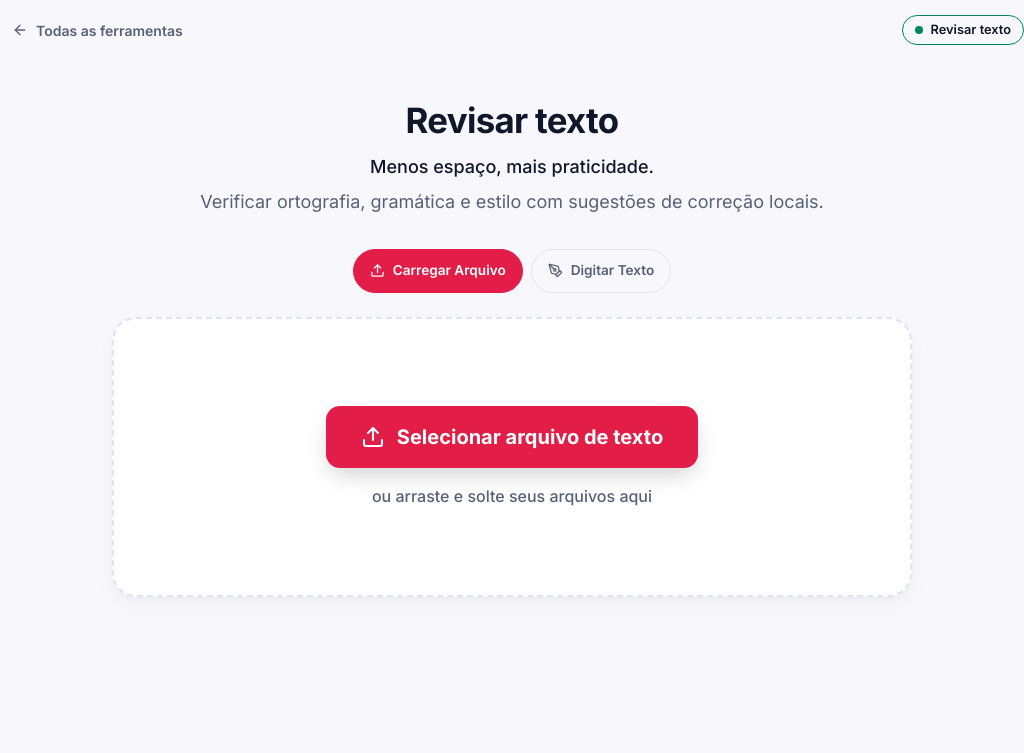
Test: DedicatedToolView - Espaço 2 Colunas e Ferramentas Interativas › preserva correção todas feita enquanto a revisão está pendente
Step 1. Click the button "Digitar Texto" → click(601, 271), box 531,249 -> 671,293
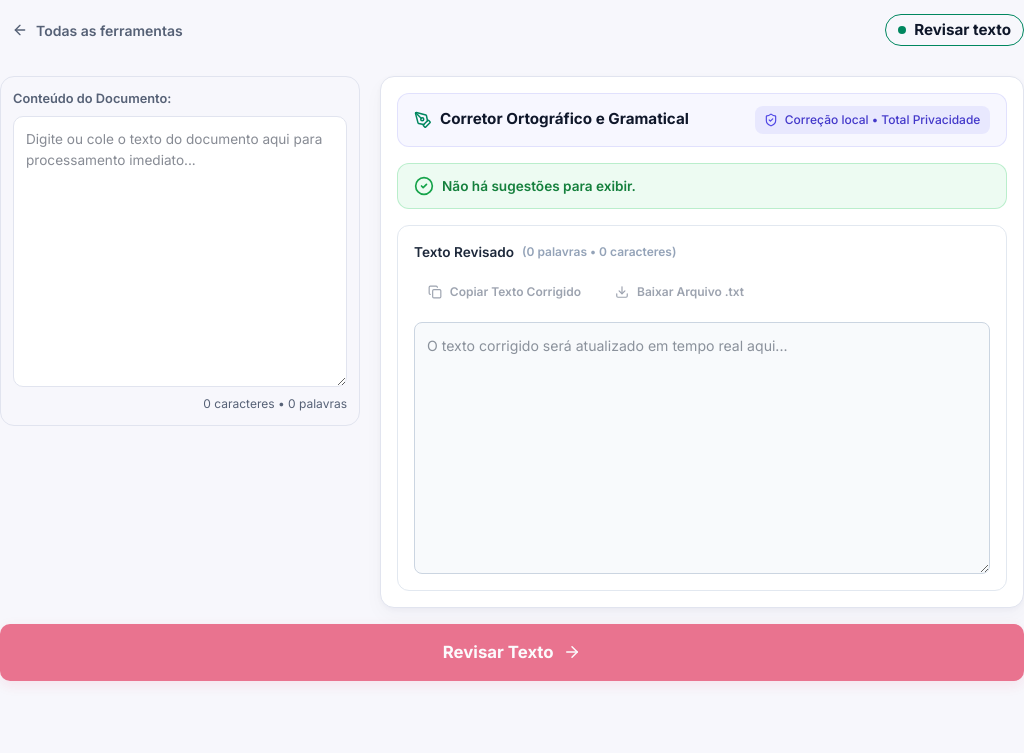
Step 2. Replace the text in the text box labelled "Conteúdo do Documento:" with "Texto texto." → (180, 252), box 13,116 -> 347,387
(page scrolled)
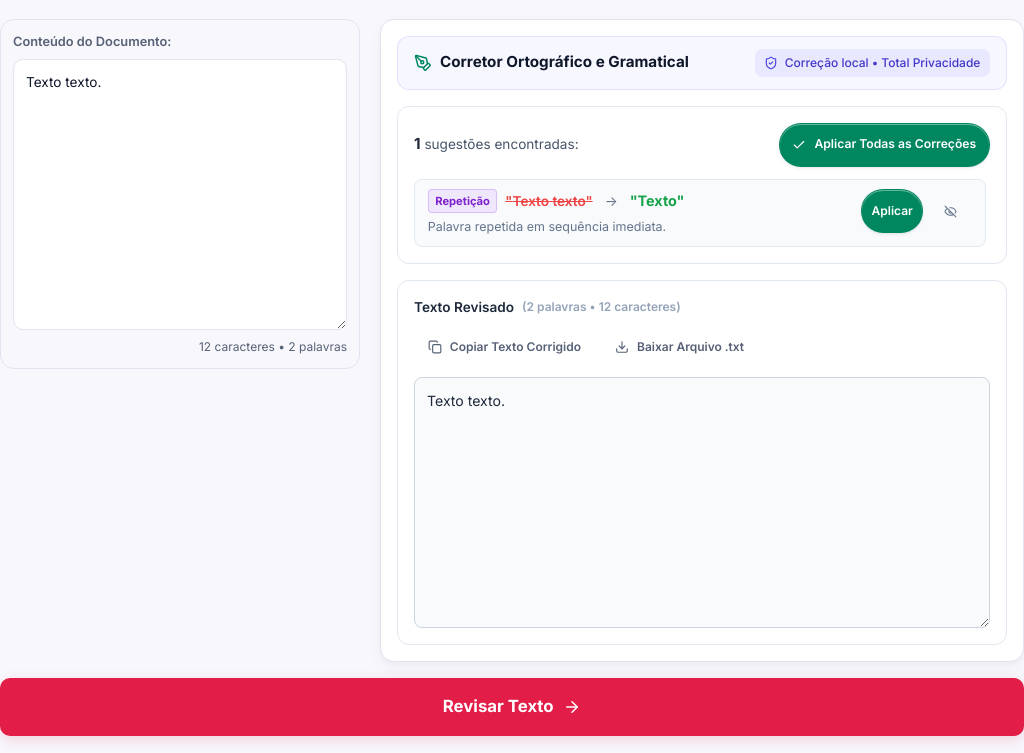
Step 3. Click the button "Revisar Texto" → click(512, 707), box 0,678 -> 1023,736
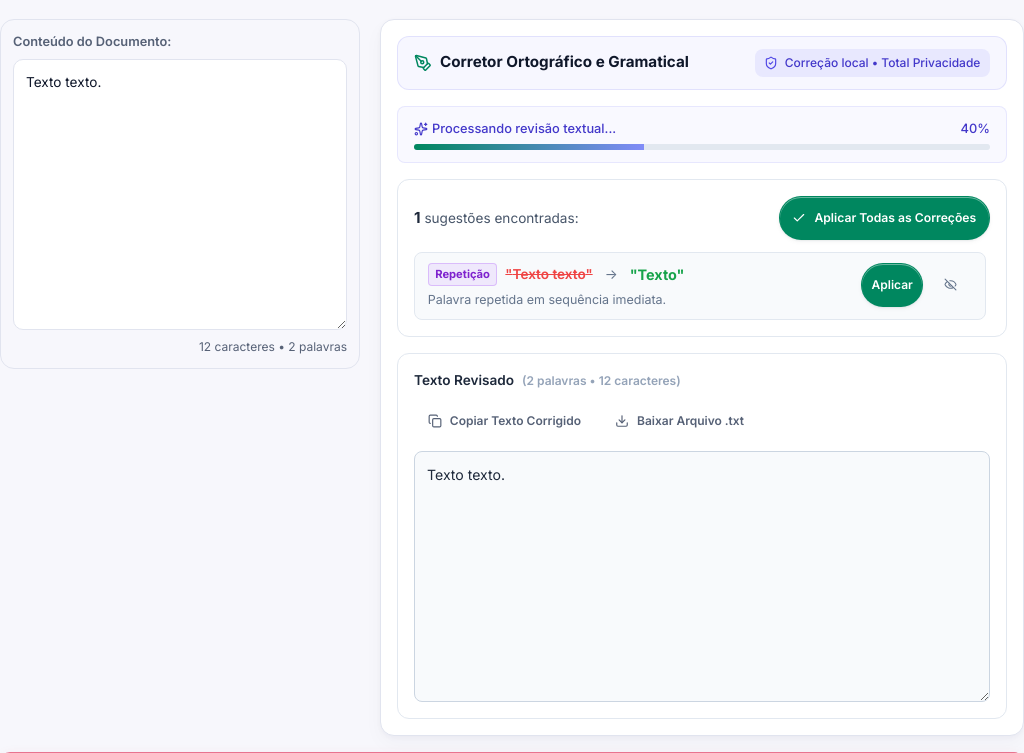
Step 4. Click the button "Aplicar Todas as Correções" → click(884, 218), box 779,196 -> 990,240
(page scrolled)
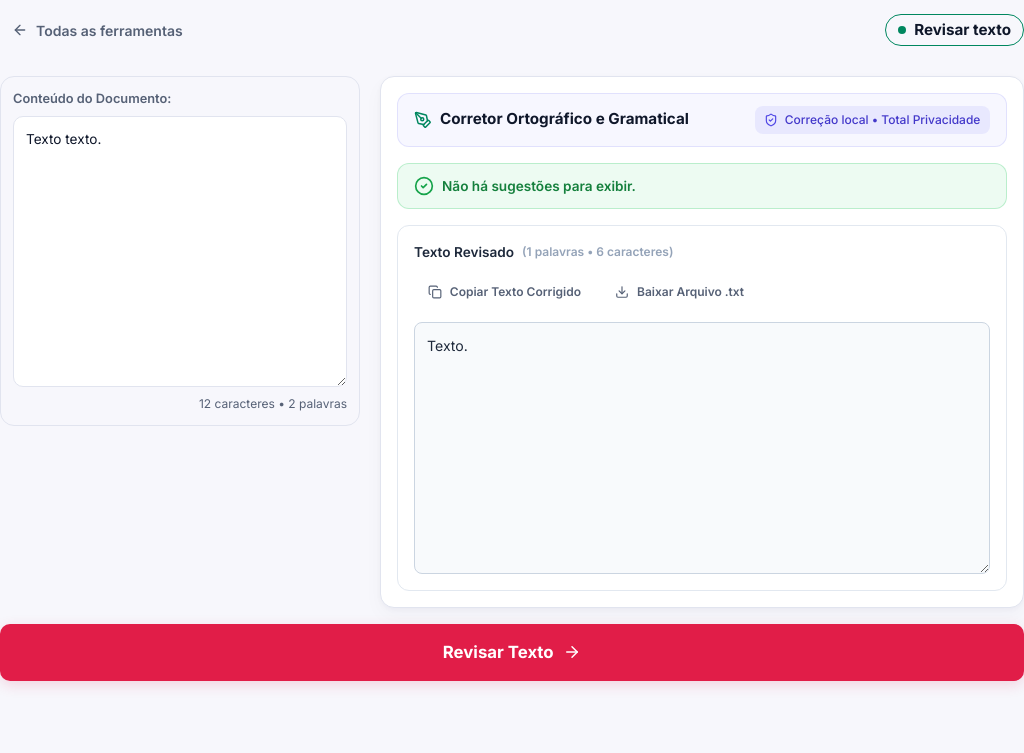
Now the text box with placeholder "O texto corrigido será atualizado em tempo real aqui..." holds "Texto.", box 414,322 -> 990,574
